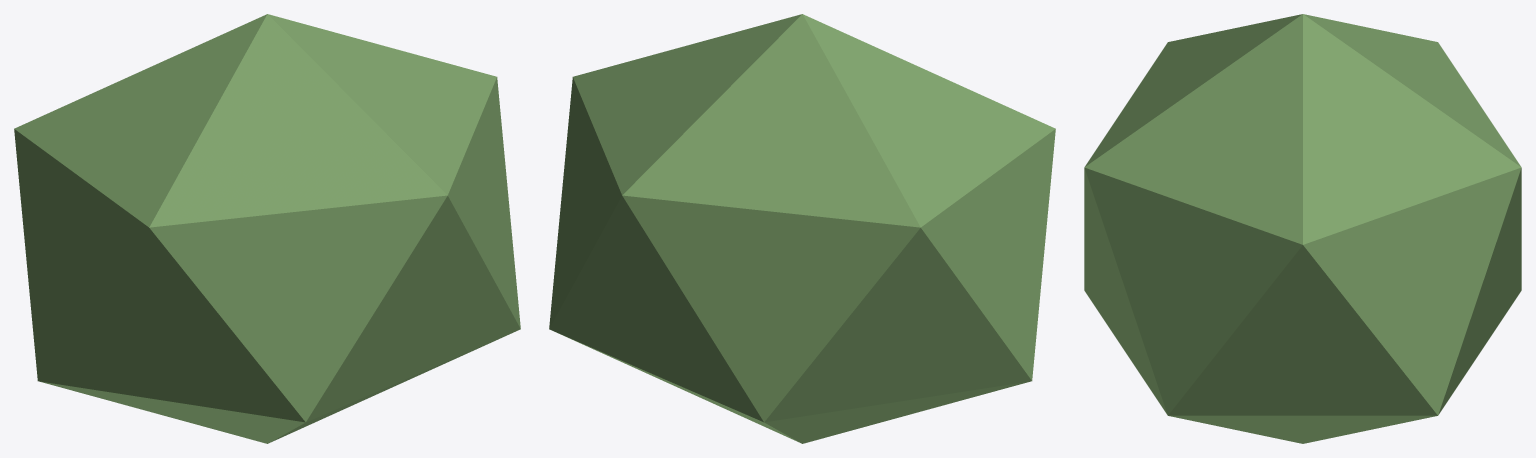
Rendered from norway-shrub_lod1.glb.
The picture shows the model from 3 angles, left to right: view 1: azimuth 30°, elevation 25°; view 2: azimuth 150°, elevation 25°; view 3: azimuth 270°, elevation 25°; orthographic projection.
Parts seen in each view (by area): view 1: RF_Shrub0; view 2: RF_Shrub0; view 3: RF_Shrub0.
Part boxes in pixels (bbox=[...]): RF_Shrub0: bbox=[14, 14, 520, 443]; RF_Shrub0: bbox=[549, 14, 1055, 443]; RF_Shrub0: bbox=[1084, 14, 1521, 443].
Size of the model in its own units: 2.68 by 2.4 by 2.21.
